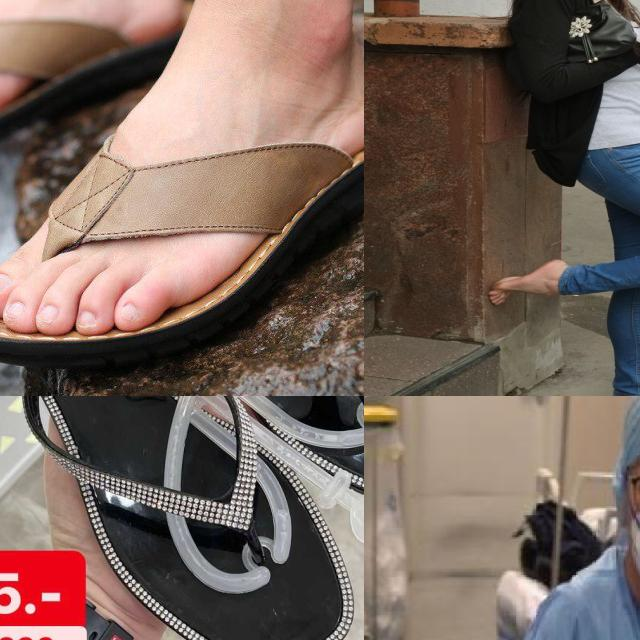Barefoots: (489, 260, 569, 306)
Sandals: (0, 80, 364, 361), (0, 396, 364, 640)
face_mask: (624, 463, 640, 597)
head_nohelmet: (612, 403, 640, 469)
person: (461, 396, 640, 640)
